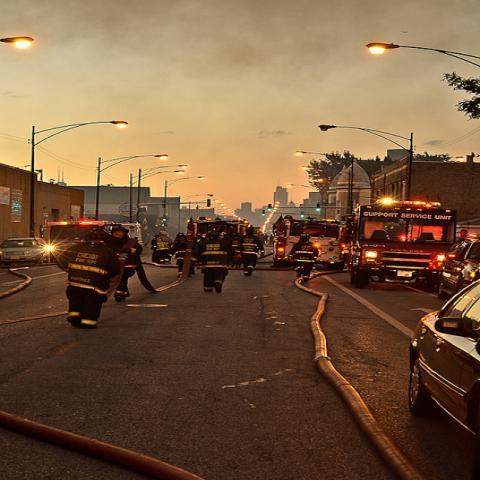car: (402, 278, 479, 440), (437, 233, 479, 298), (0, 237, 51, 266)
truck: (342, 198, 457, 288), (272, 214, 350, 270), (189, 220, 241, 235)
